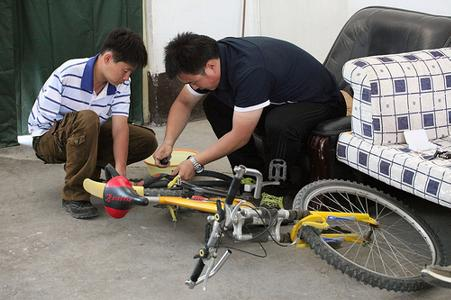person: (152, 32, 348, 200)
